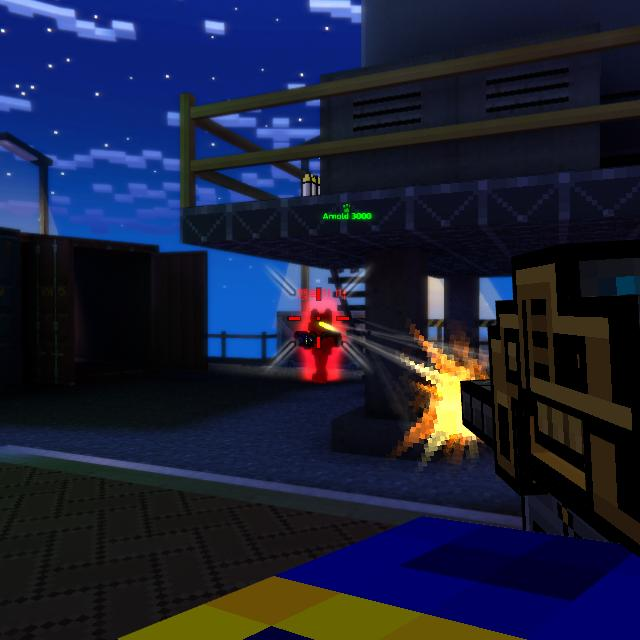Enemy: (298, 308, 345, 384)
